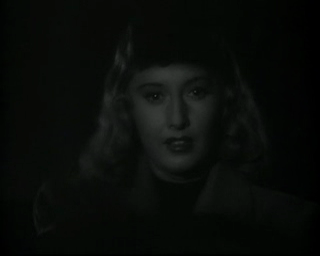cu: (1, 1, 320, 256)
face: (132, 59, 215, 170)
person: (31, 7, 320, 256)
